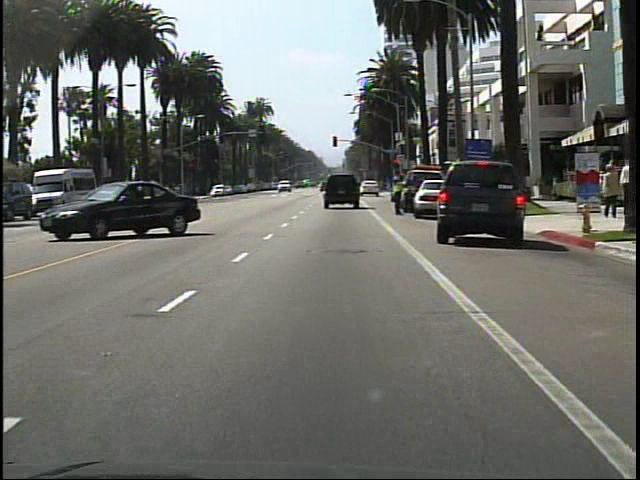person: (597, 160, 619, 223), (388, 171, 406, 219)
